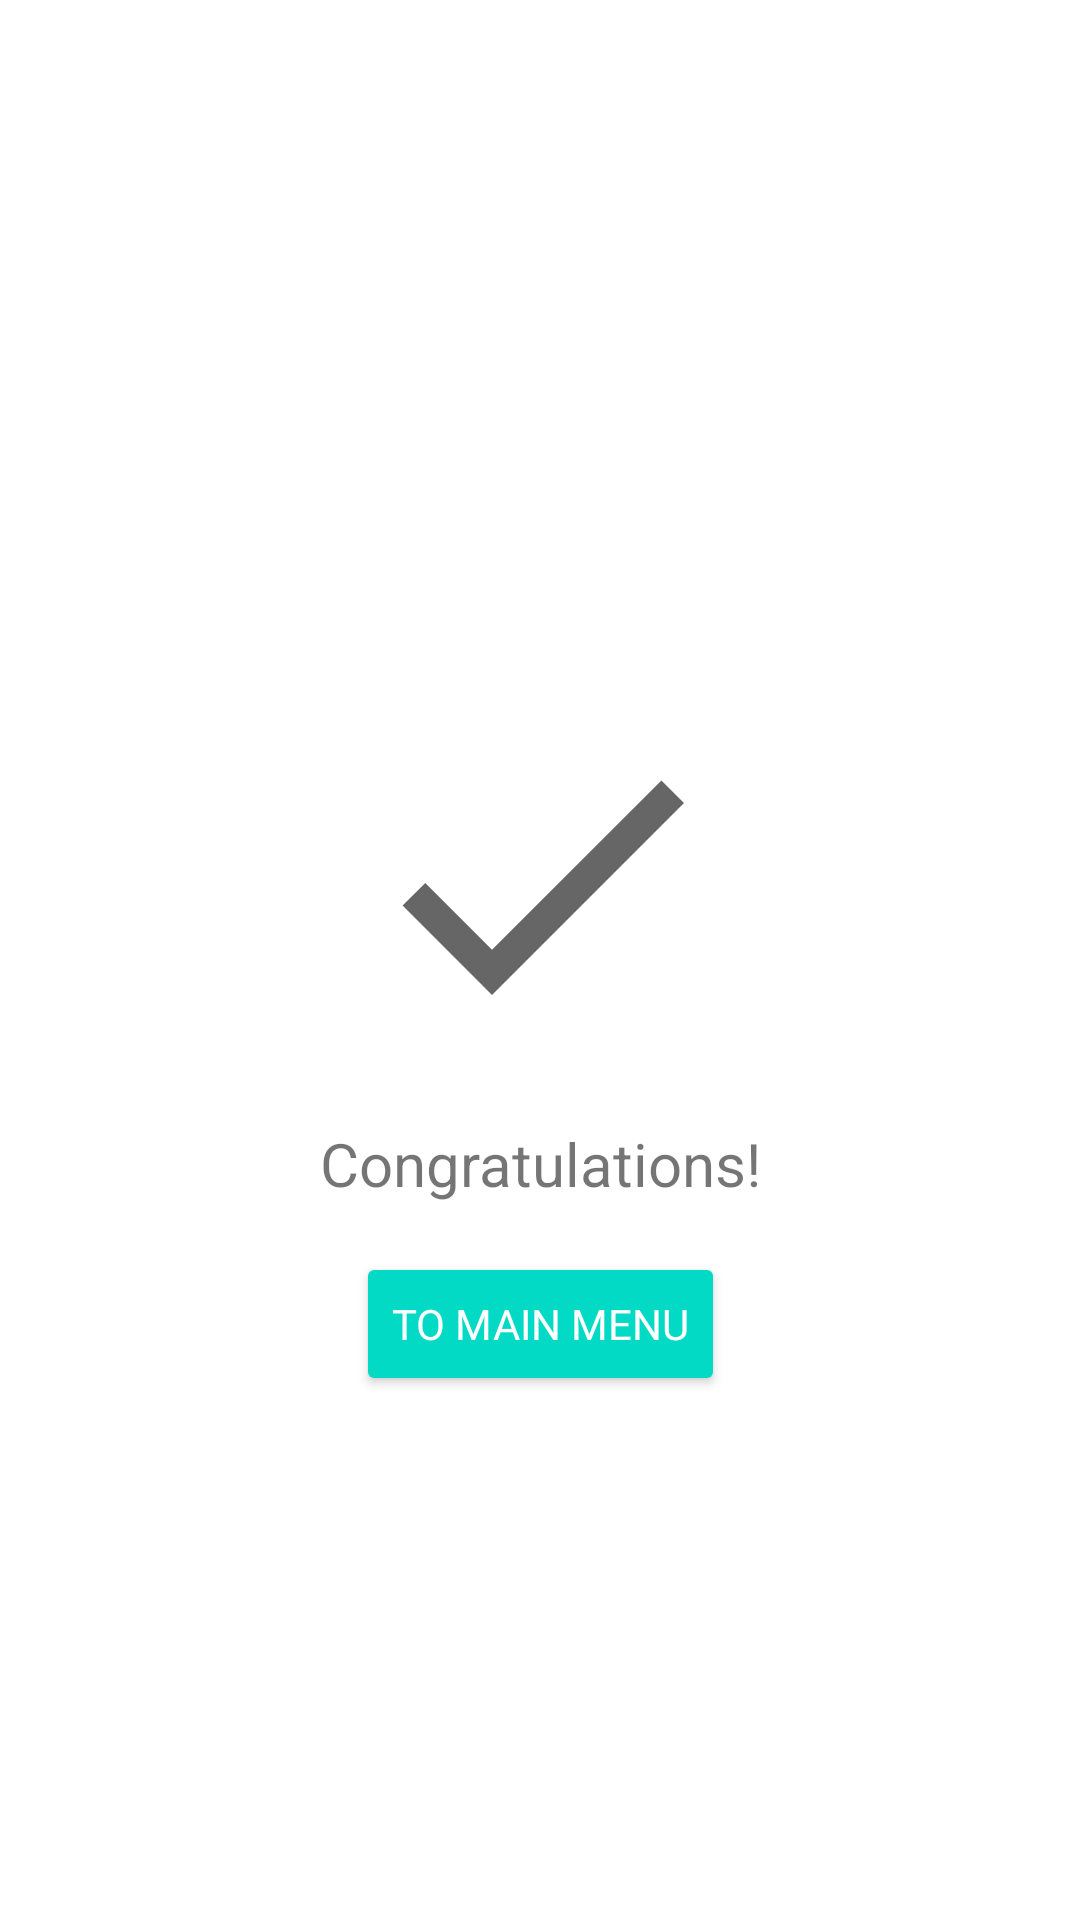

Icons on this 1080 x 1920 Android screen, each with the point to tap as [x,y]:
check: [543,887]
